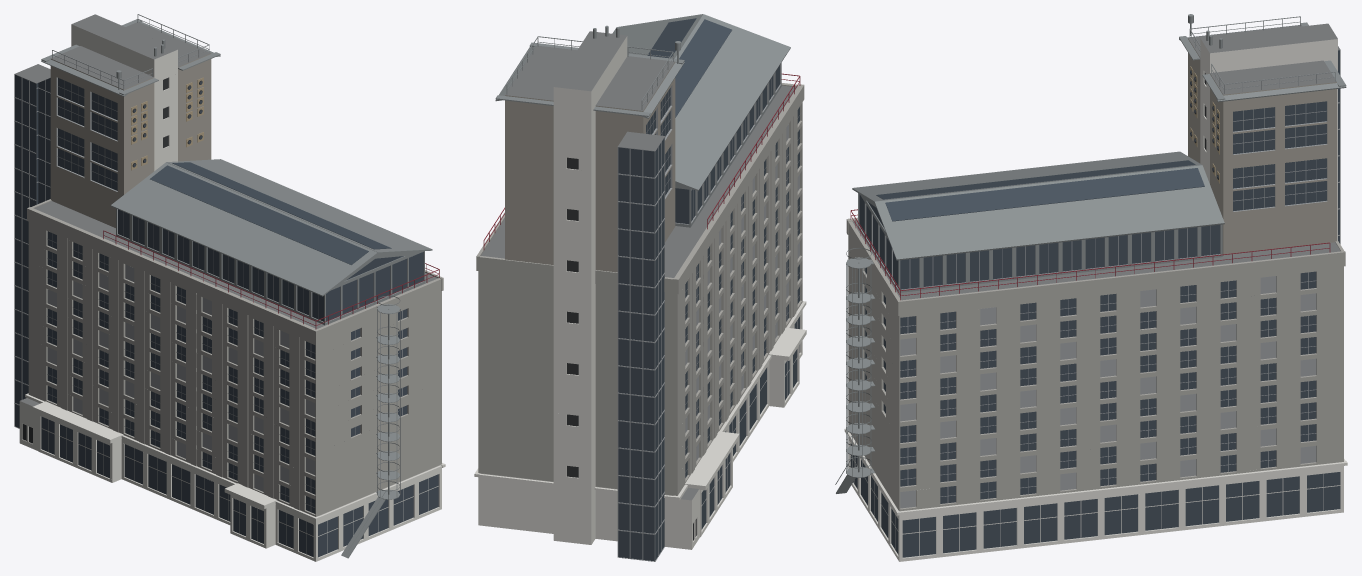
File: betonnen-silo-silodam.glb
3 renders of one model, left to right at view 1: azimuth 30°, elevation 25°; view 2: azimuth 150°, elevation 25°; view 3: azimuth 270°, elevation 25°, orthographic. The views are drawn at different scales.
Visible parts, largest first — view 1: betonnen-silo-silodam; view 2: betonnen-silo-silodam; view 3: betonnen-silo-silodam.
Part boxes in pixels (x1,y1,x2,y2): betonnen-silo-silodam: [14, 14, 445, 561]; betonnen-silo-silodam: [474, 14, 806, 561]; betonnen-silo-silodam: [835, 14, 1347, 561].
Bounding box in the file's own units: 32.89 × 49.6 × 51.36.
